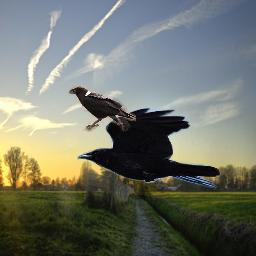Crow: (77, 108, 221, 188), (68, 85, 136, 132)
